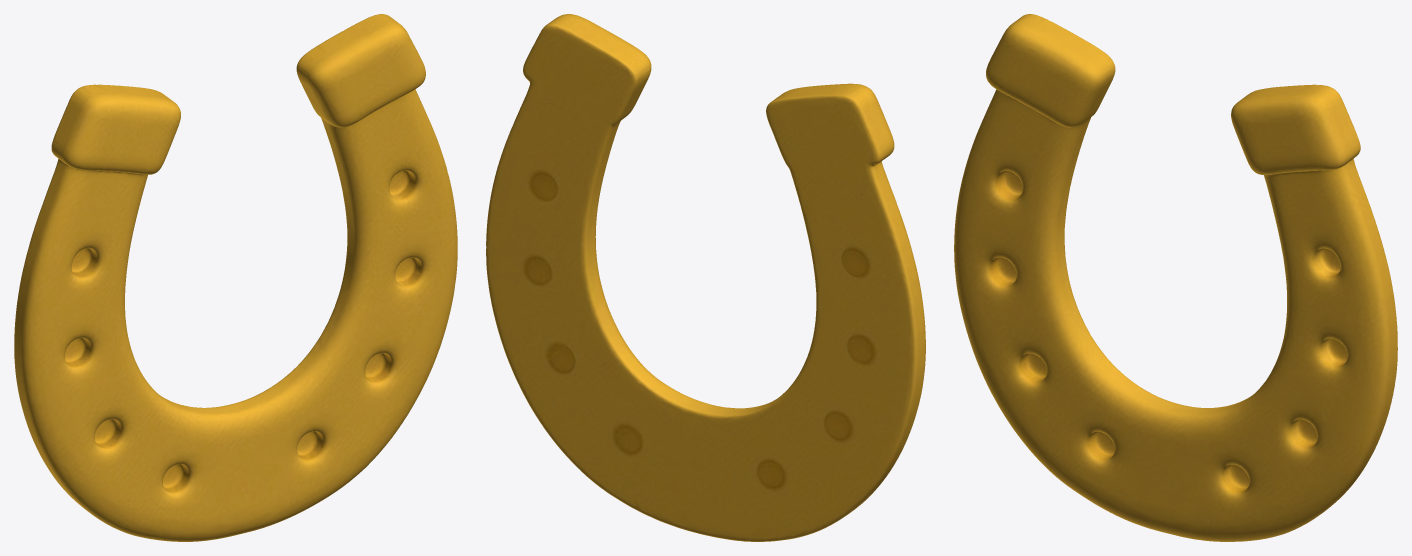
The picture shows the model from 3 angles, left to right: view 1: azimuth 30°, elevation 25°; view 2: azimuth 150°, elevation 25°; view 3: azimuth 330°, elevation 25°; orthographic projection.
Bounding box in the file's own units: 1.81 × 1.9 × 0.1677.
Materials: 1 (1 with a texture image).
